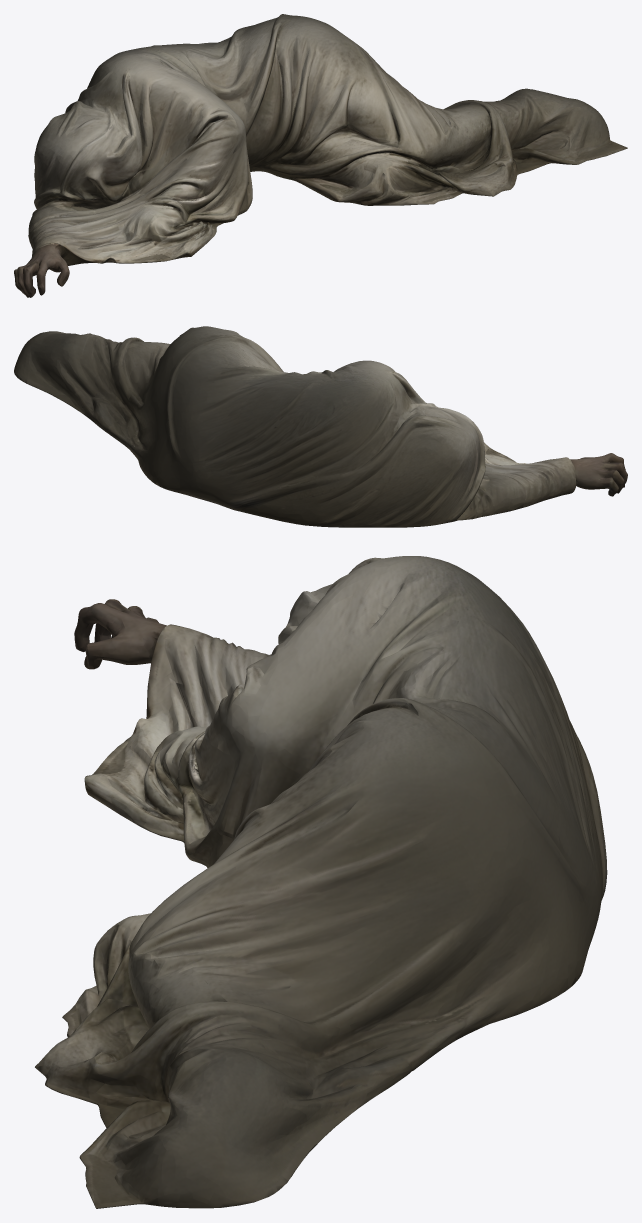
Rendered from A corpse that is trying to crawl but stopped midway.fbx.
The picture shows the model from 3 angles, top to bottom: view 1: azimuth 30°, elevation 25°; view 2: azimuth 150°, elevation 25°; view 3: azimuth 270°, elevation 25°; orthographic projection. The views are drawn at different scales.
Visible parts, largest first — view 1: node_0; view 2: node_0; view 3: node_0.
Part boxes in pixels (left/top/right/bottom): node_0: left=14, top=14, right=627, bottom=297; node_0: left=14, top=326, right=627, bottom=527; node_0: left=35, top=556, right=607, bottom=1208.
Size of the model in its own units: 1.12 by 0.2474 by 0.4754.
Materials: 1 (1 with a texture image).
